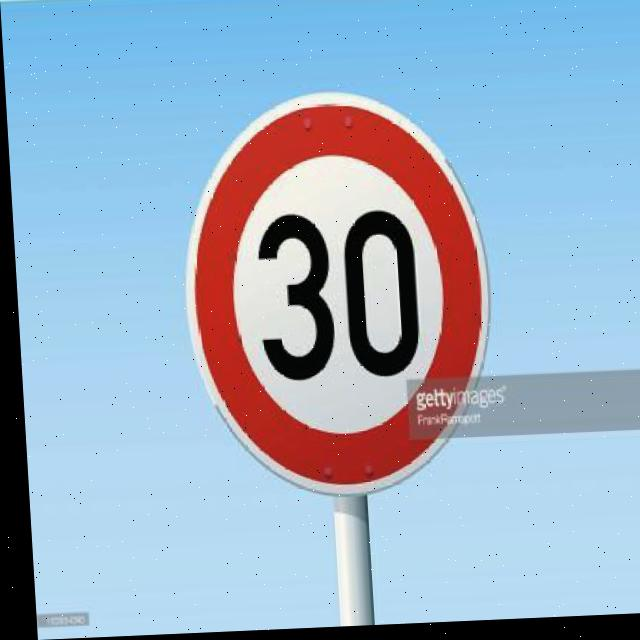Speed limit 30: (170, 86, 498, 508)
